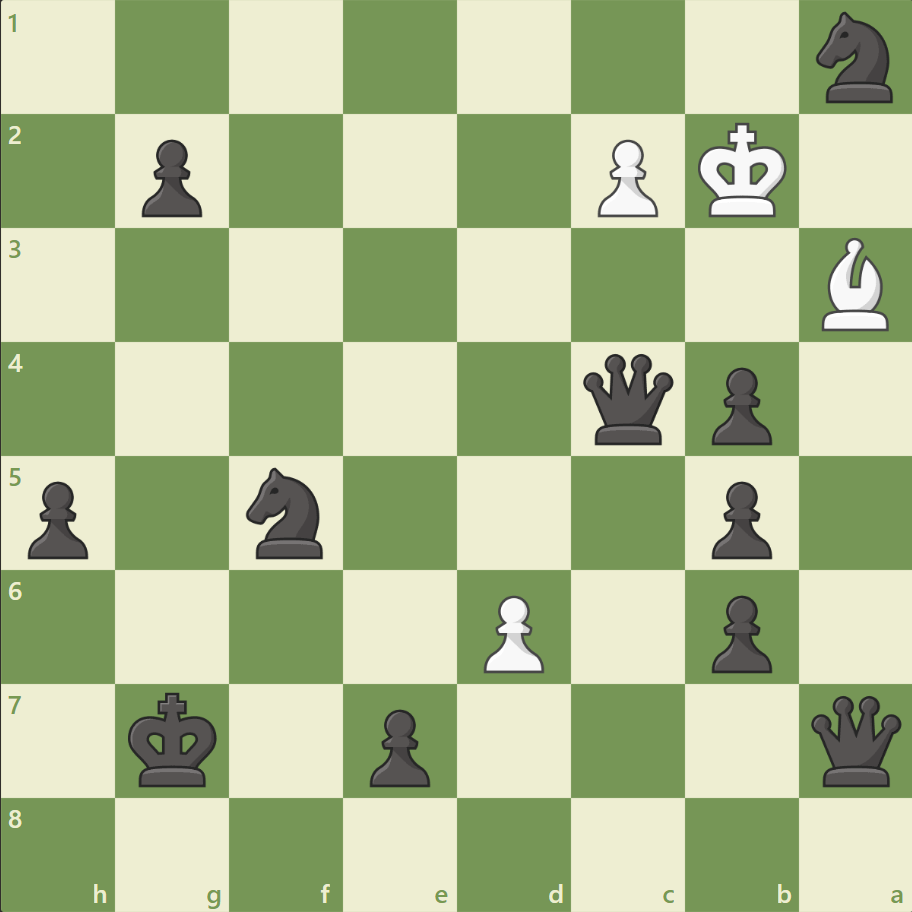B: (812, 233, 896, 336)
K: (692, 117, 792, 225)
P: (474, 586, 549, 677), (588, 132, 662, 223)
k: (124, 685, 224, 793)
n: (238, 461, 335, 564), (806, 7, 903, 110)
p: (701, 586, 776, 677), (701, 473, 776, 564), (20, 473, 95, 564), (701, 359, 776, 450), (133, 132, 208, 223), (361, 700, 435, 791)
q: (578, 349, 677, 449), (805, 690, 904, 789)
